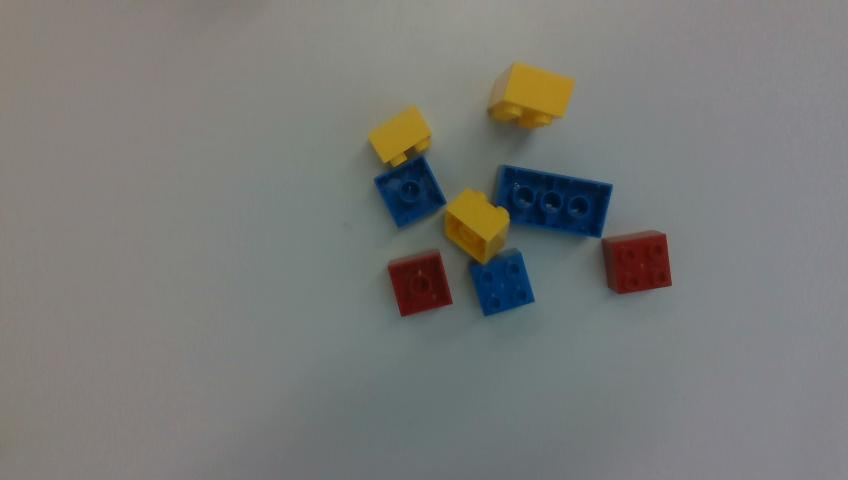2x2_blue: (376, 155, 446, 227), (469, 250, 534, 315)
2x2_red: (388, 250, 452, 316), (603, 231, 671, 293)
2x2_yellow: (488, 62, 574, 128), (445, 189, 509, 263), (368, 105, 431, 165)
4x2_blue: (493, 165, 611, 236)
